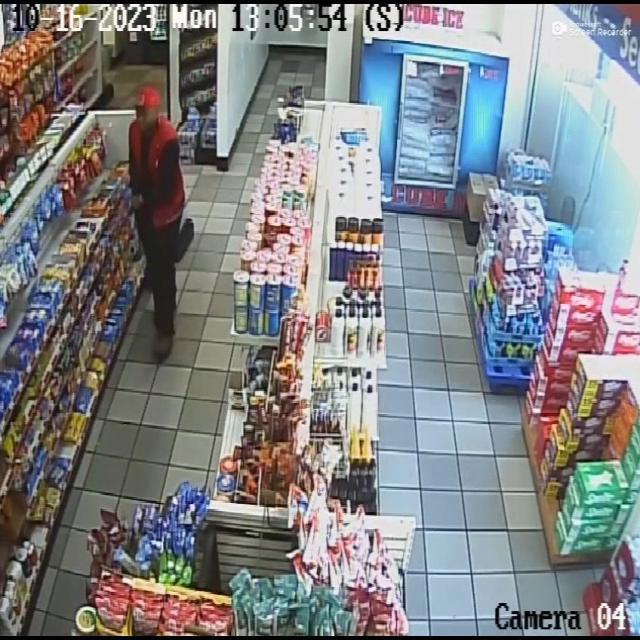Normal: (122, 93, 197, 359)
